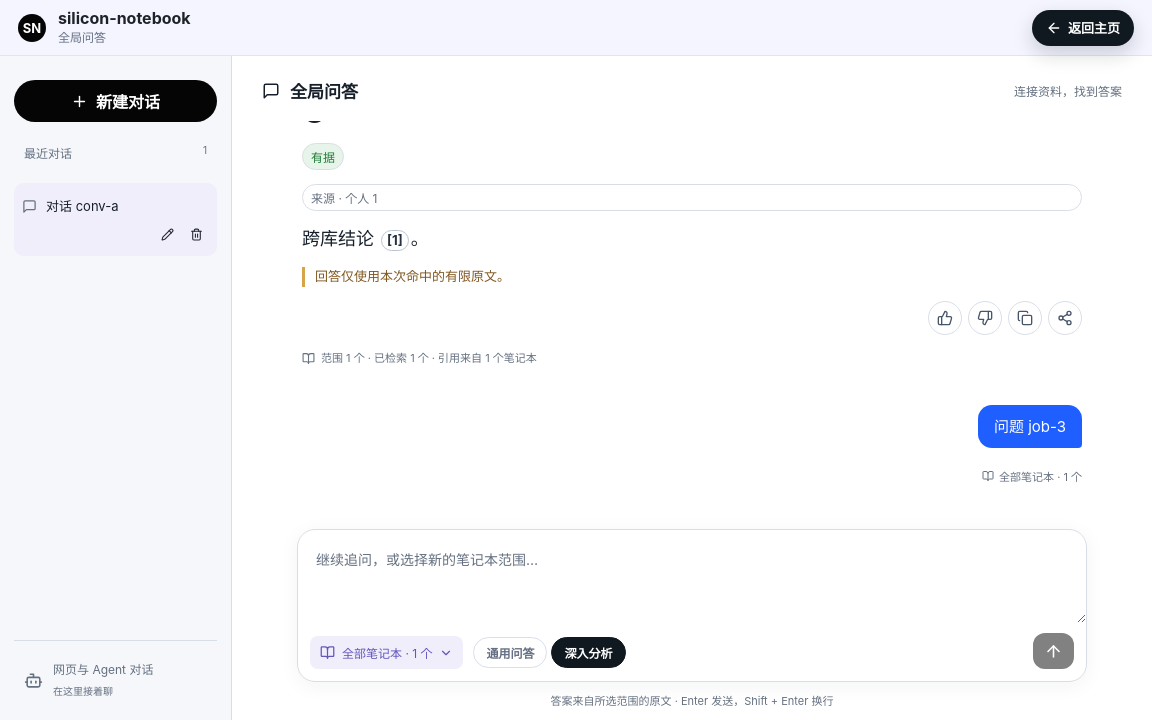
Scenario: 边界钉在这条**作业**上：POST 走全局端点，expected_through_id 是 job_id
(page scrolled)
What coordinates should you click on to do the following:
click the button named "分享到这条回答"
I would click on:
 (1065, 318)
Its box is [1048,301,1082,335].
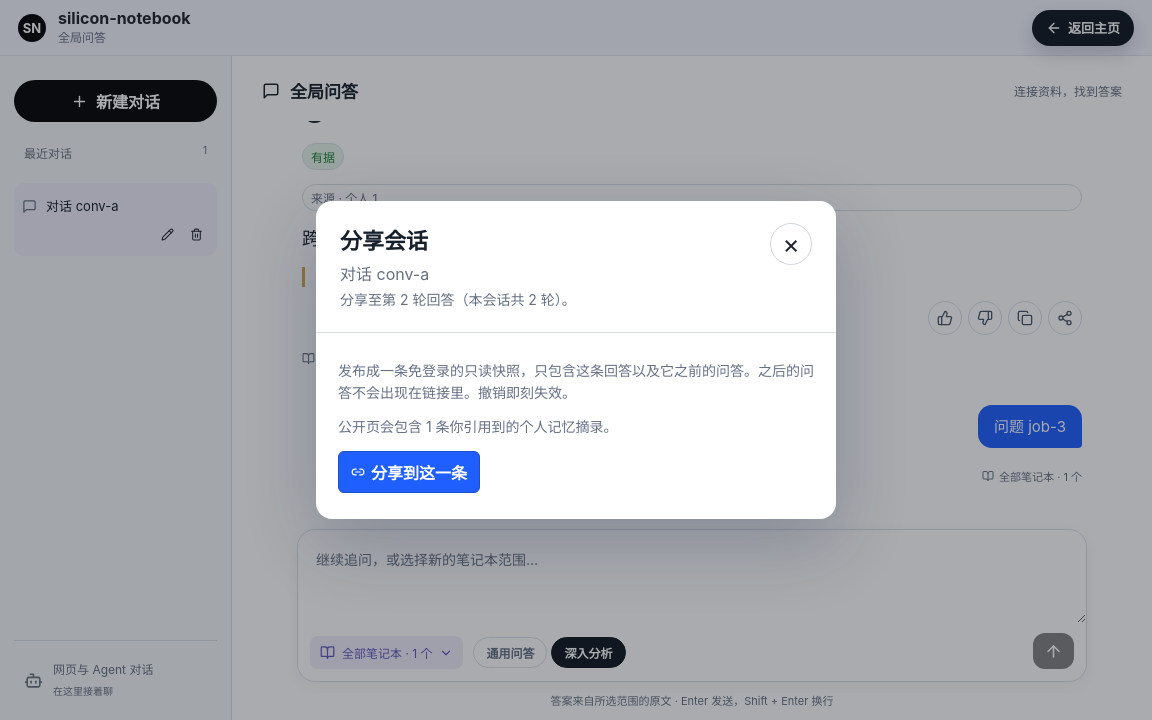
Expected: the heading "分享会话" is shown, [340,228,428,254]
Expected: the text "分享至第 2 轮回答（本会话共 2 轮）。" is shown, [340,290,576,311]
Expected: the text "公开页会包含 1 条你引用到的个人记忆摘录。" is shown, [338,418,618,435]
What coordinates should you click on to do the following:
click the button "分享到这一条"
I would click on:
 (409, 472)
Its box is [338,451,480,493].
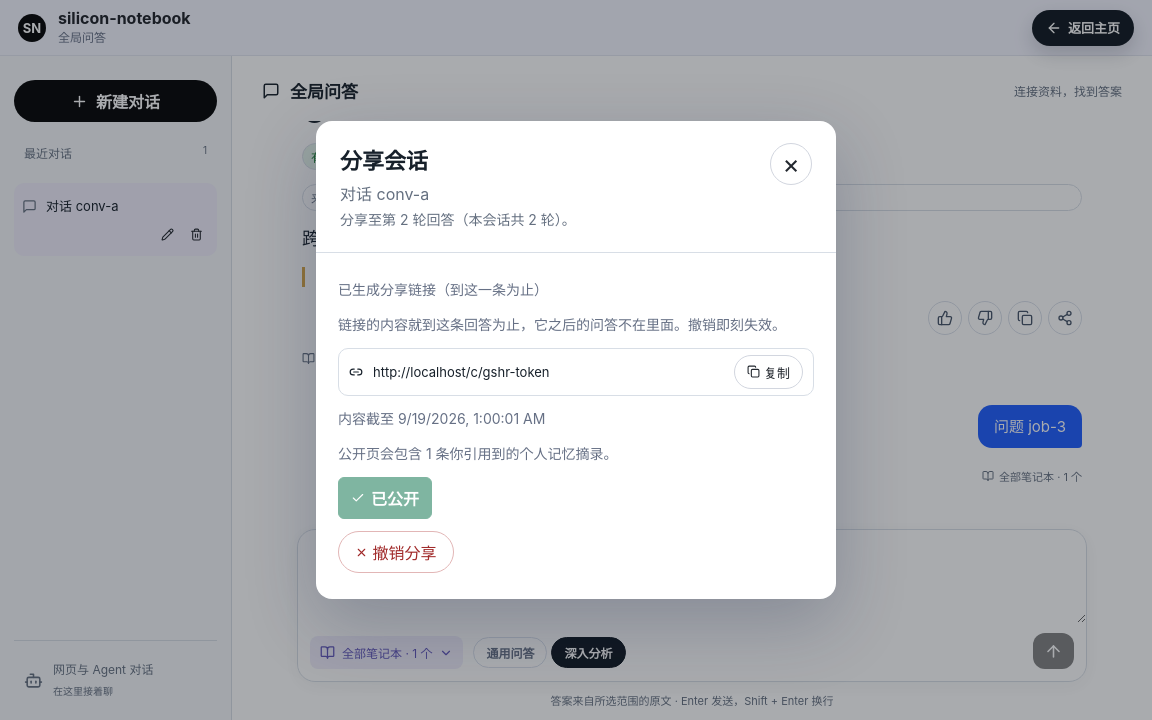
Expected: the text "已生成分享链接（到这一条为止）" is shown, [338,282,548,298]
